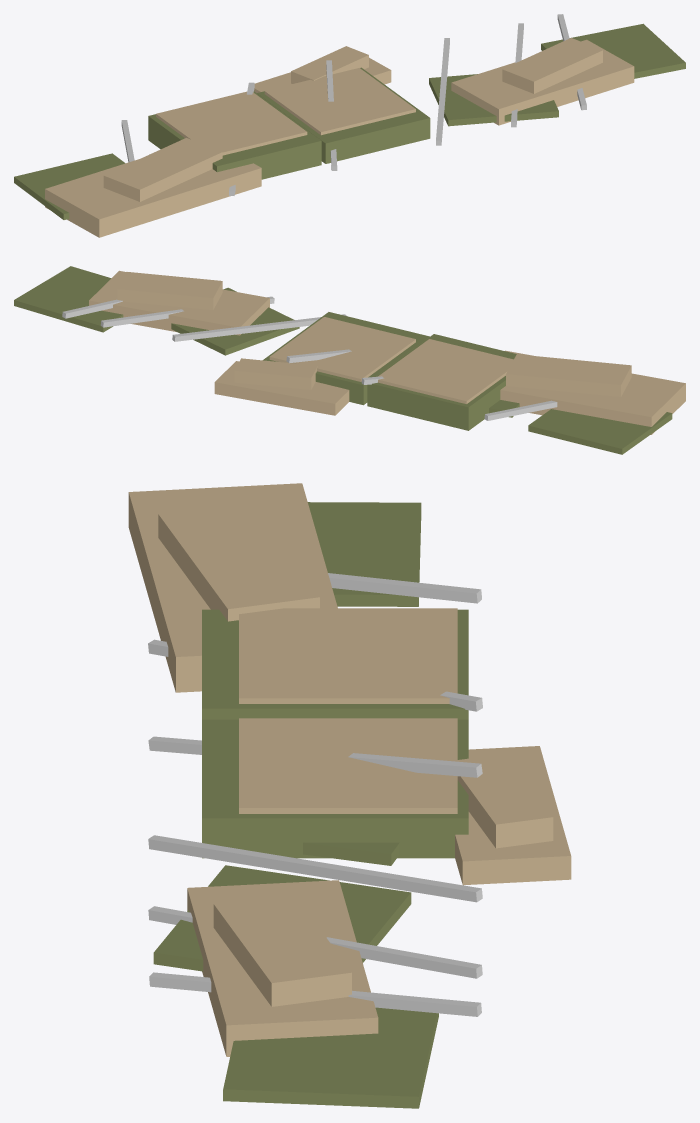
File: SM_HescoCorto3_v0_MallaLimpia_e3_Brecha_LOD0.fbx
3 renders of one model, top to bottom at view 1: azimuth 30°, elevation 25°; view 2: azimuth 150°, elevation 25°; view 3: azimuth 270°, elevation 25°, orthographic. The views are drawn at different scales.
Parts seen in each view (by area): view 1: SM_hesco_piezas_v83_LOD0; view 2: SM_hesco_piezas_v83_LOD0; view 3: SM_hesco_piezas_v83_LOD0.
Boxes of the visible parts, x1,y1,x2,y2 form: SM_hesco_piezas_v83_LOD0: (14, 14, 685, 237); SM_hesco_piezas_v83_LOD0: (14, 266, 685, 454); SM_hesco_piezas_v83_LOD0: (128, 483, 571, 1108).
Size of the model in its own units: 6.44 by 0.3263 by 2.02.
